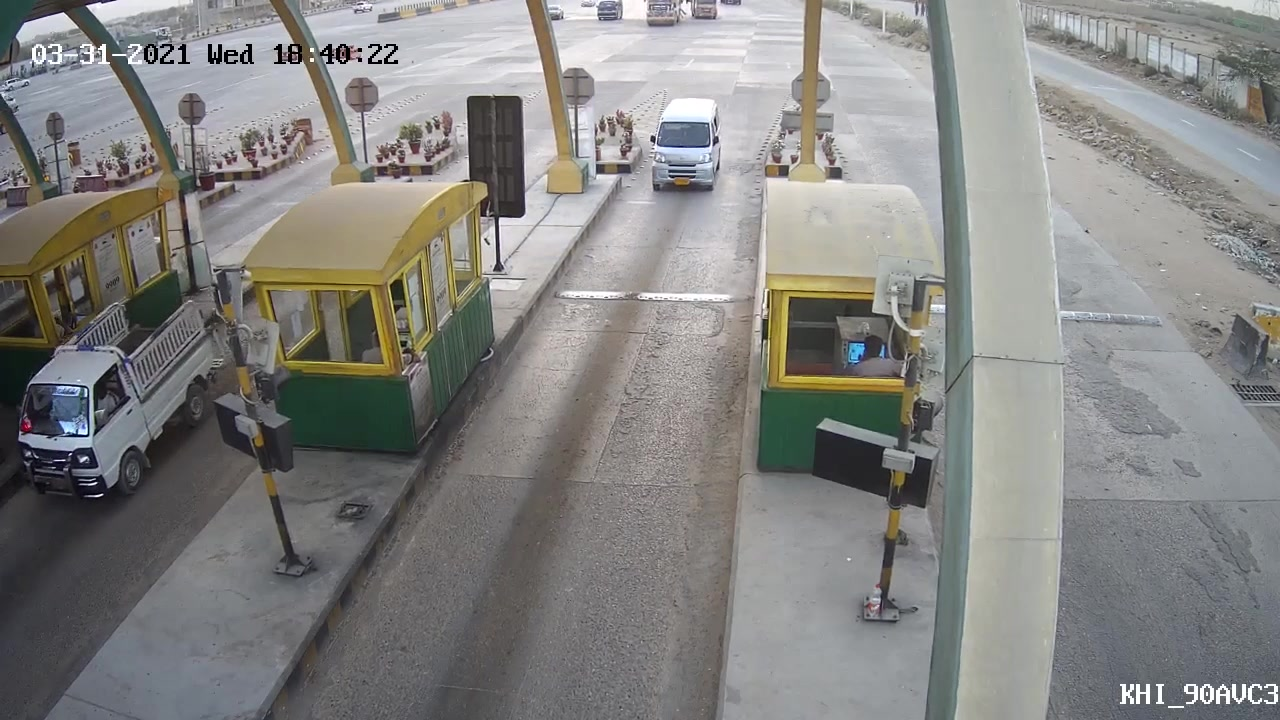F1: (641, 90, 728, 202)
